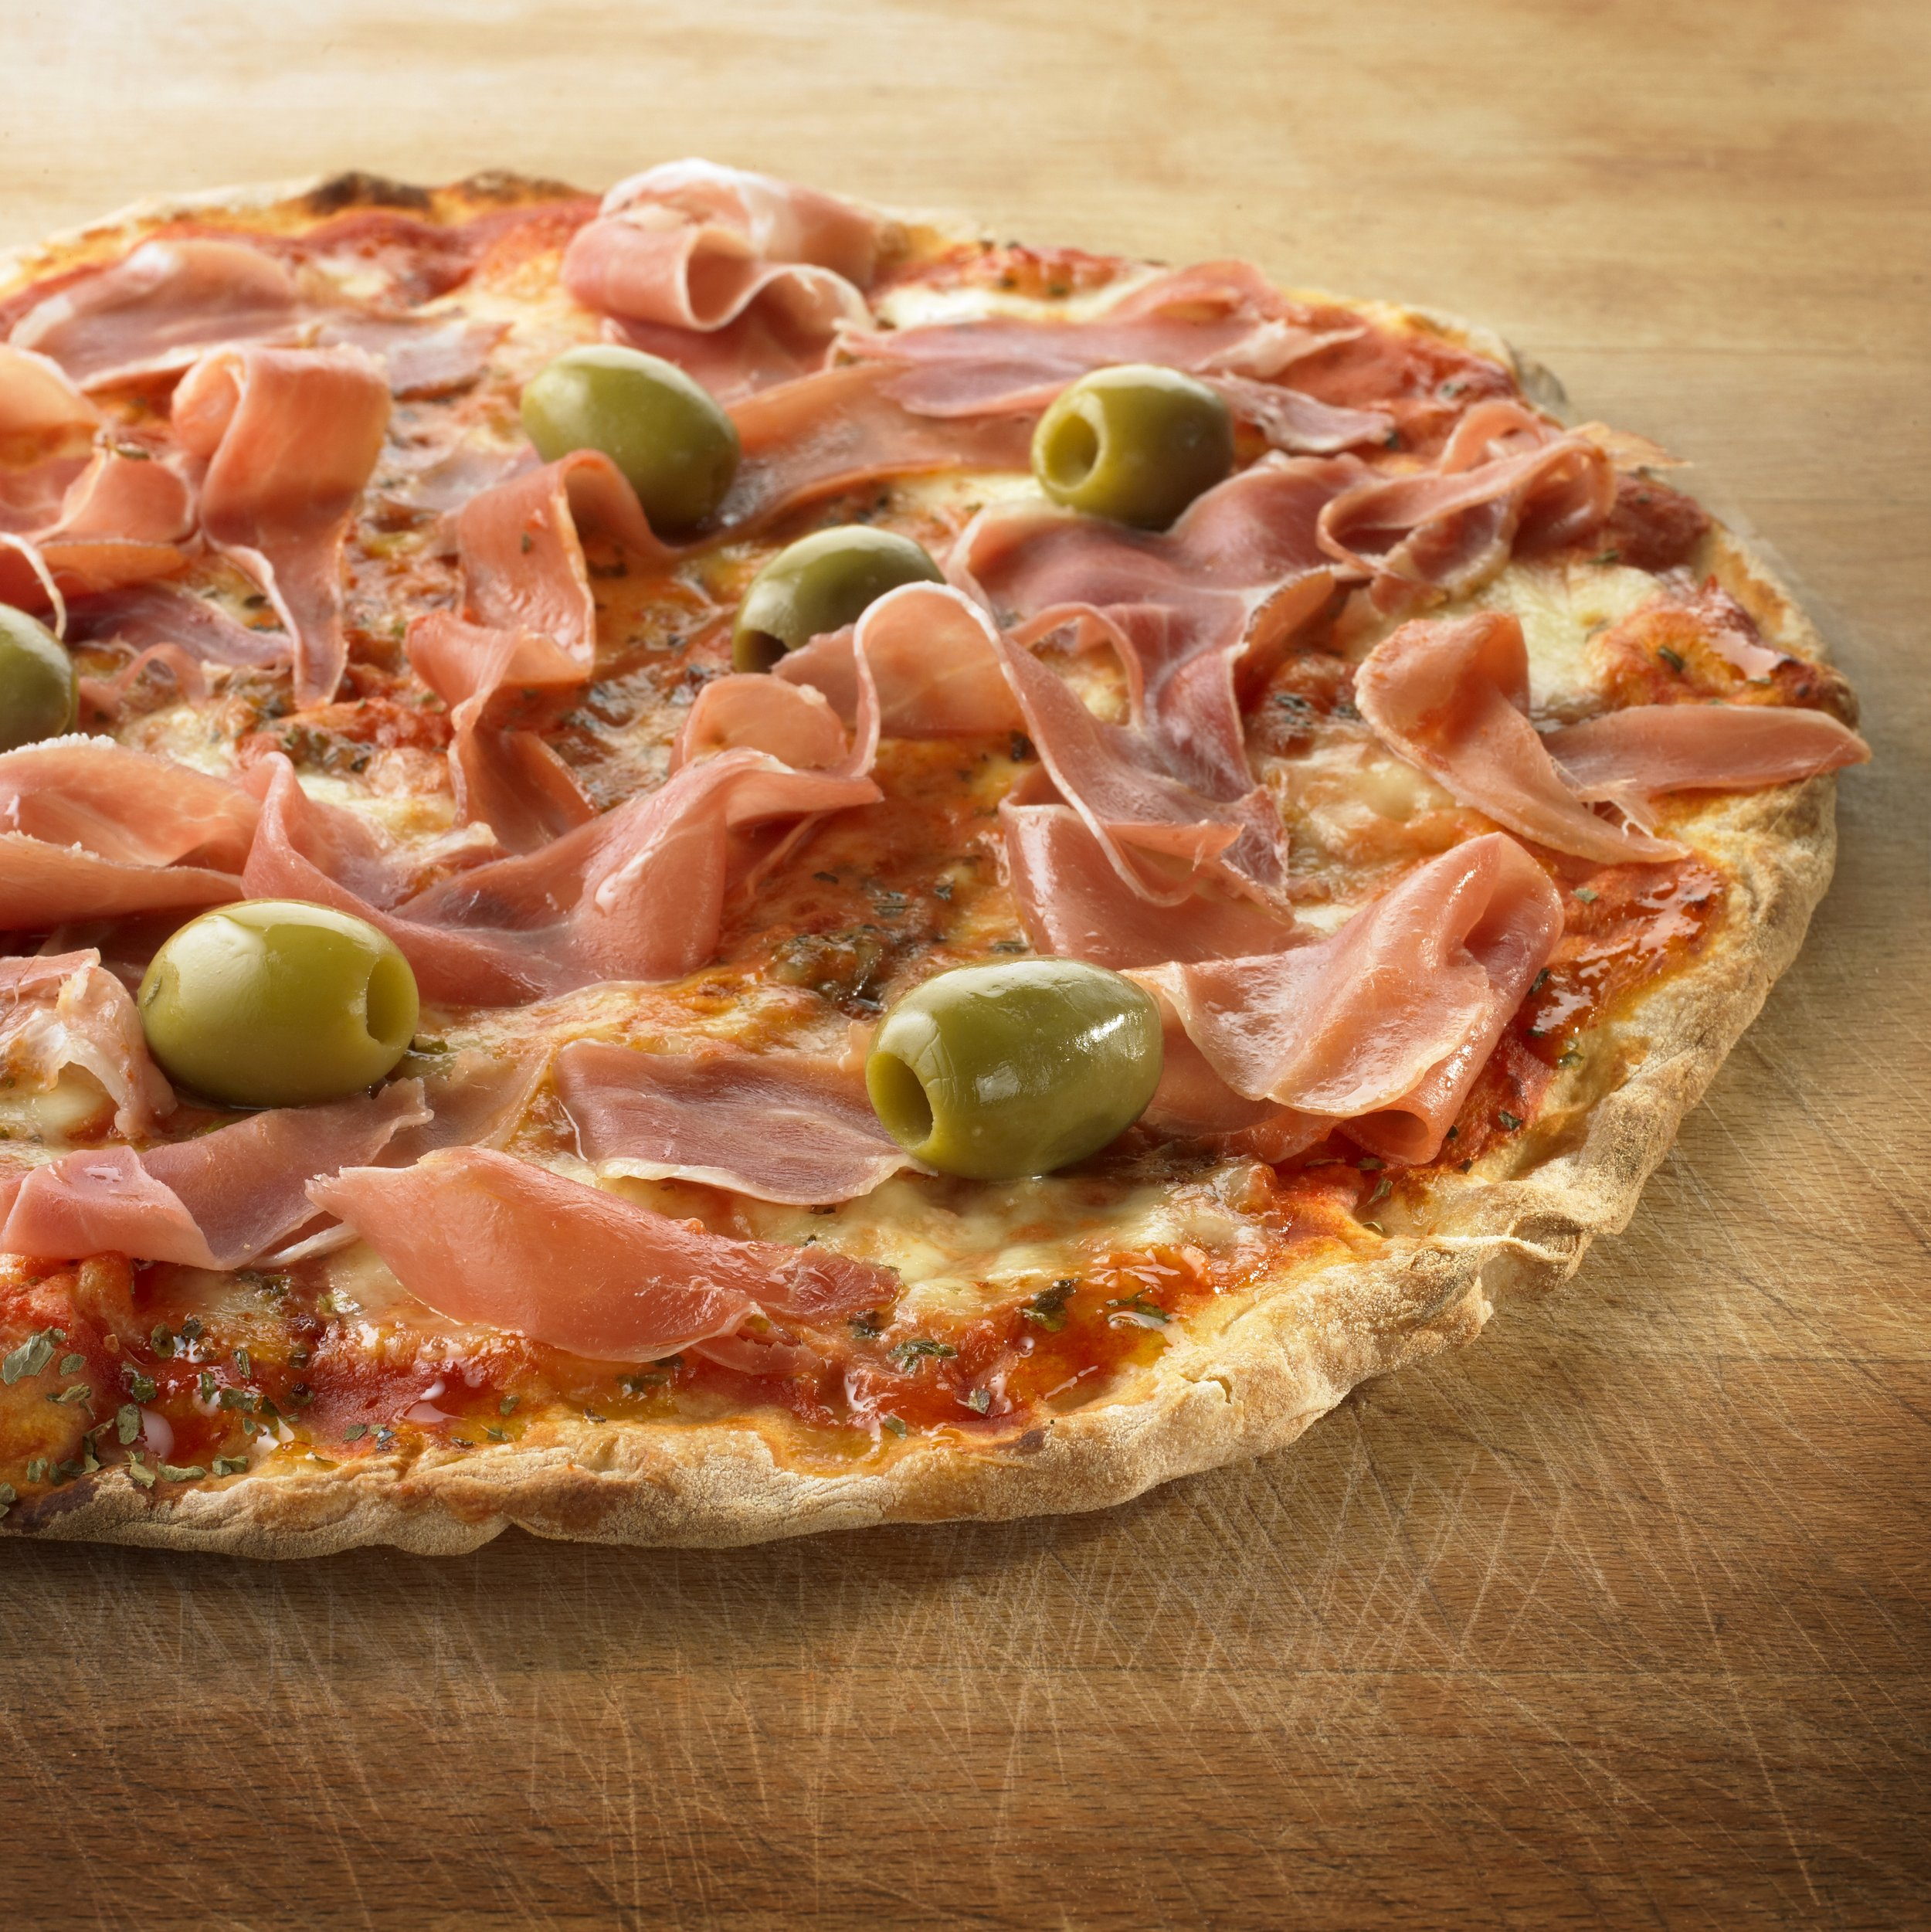Ham: (4, 743, 884, 998), (967, 423, 1676, 662), (674, 623, 1278, 883), (302, 1136, 898, 1371), (1156, 839, 1560, 1184), (877, 251, 1351, 449), (4, 1077, 467, 1263), (1372, 619, 1689, 874), (173, 324, 393, 688), (0, 249, 513, 405), (582, 159, 884, 410), (543, 1030, 914, 1205), (660, 356, 971, 561), (423, 455, 638, 717), (1521, 704, 1862, 791), (0, 610, 74, 748)
Olives: (854, 955, 1174, 1180), (141, 899, 426, 1108), (493, 338, 743, 536), (1031, 363, 1236, 522), (729, 527, 953, 671)
Pizza: (0, 165, 1857, 1546)
